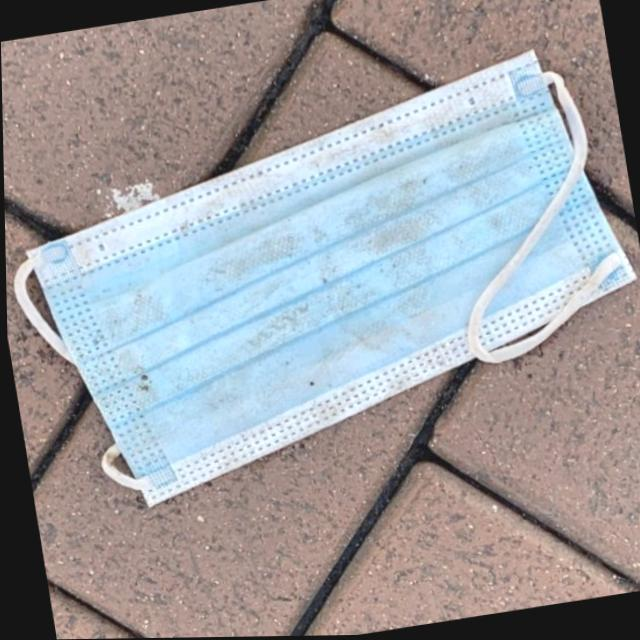Mask: (1, 37, 640, 527)
